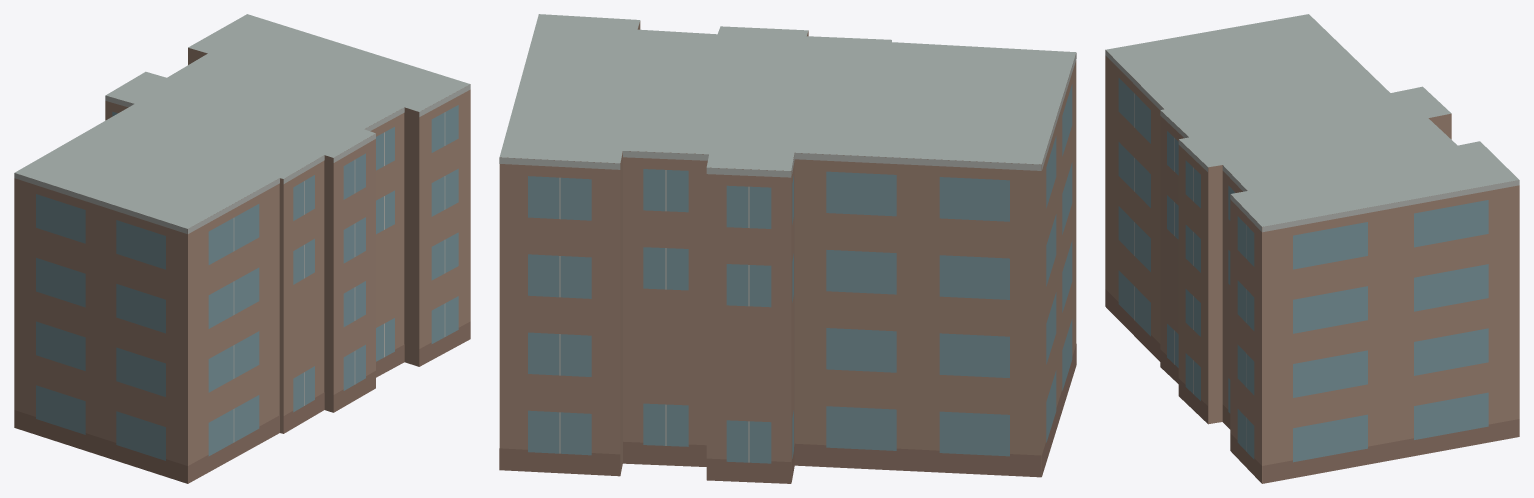
The model's file is survey-upis-32589573.glb.
The picture shows the model from 3 angles, left to right: view 1: azimuth 30°, elevation 25°; view 2: azimuth 150°, elevation 25°; view 3: azimuth 270°, elevation 25°; orthographic projection. The views are drawn at different scales.
Parts seen in each view (by area): view 1: survey-upis-32589573.tmp; view 2: survey-upis-32589573.tmp; view 3: survey-upis-32589573.tmp.
Part boxes in pixels (x1,y1,x2,y2): survey-upis-32589573.tmp: (14,14,470,483); survey-upis-32589573.tmp: (499,14,1076,483); survey-upis-32589573.tmp: (1105,14,1519,483).
Bounding box in the file's own units: 20.81 × 11.7 × 17.1.
